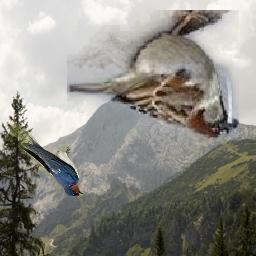Sparrow: (67, 10, 239, 142)
Swallow: (11, 121, 84, 197)
